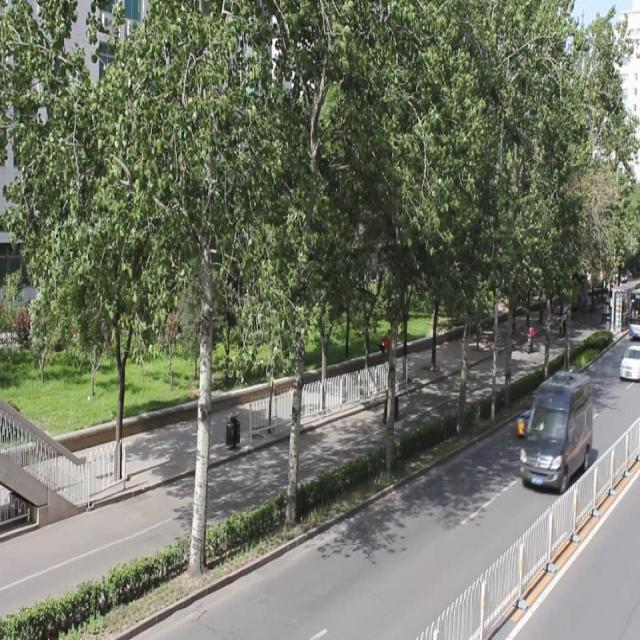truck: (517, 372, 590, 491)
